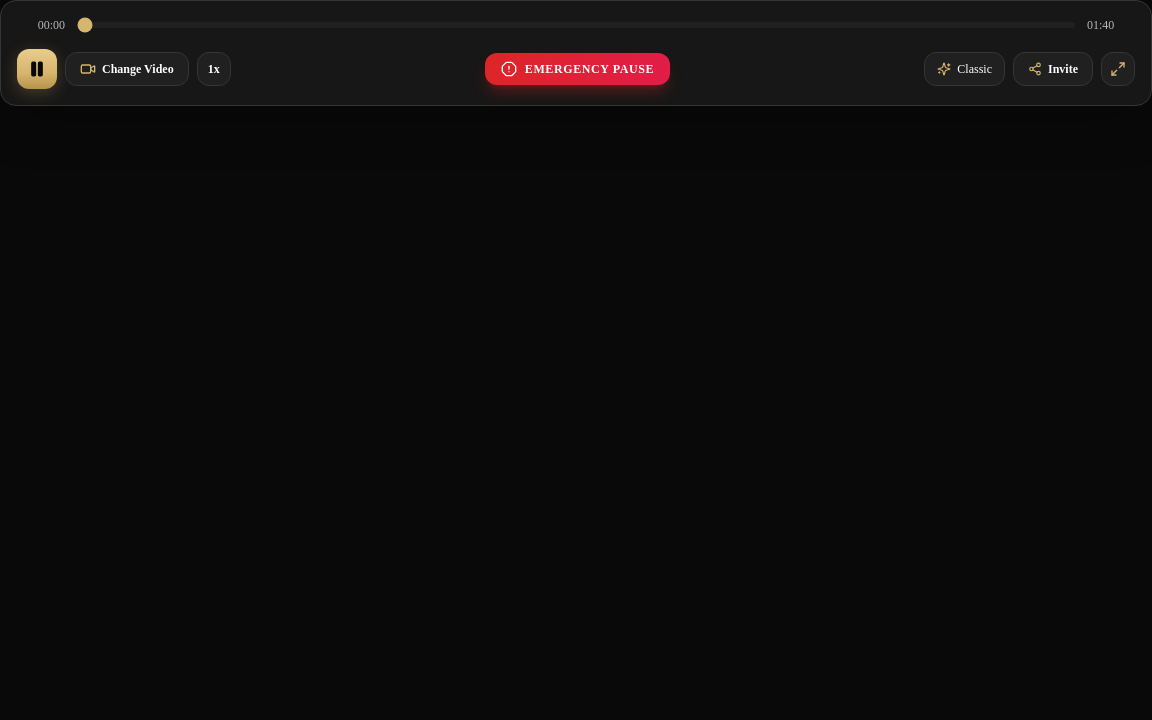
PlaybackControls Component › Invite Sharing & Clipboard Handling › handles clipboard writeText permission rejection without crashing and displays manual copy option
Step 1. Click the button with test id "invite-btn" → (1053, 69), box [1013,52,1093,86]
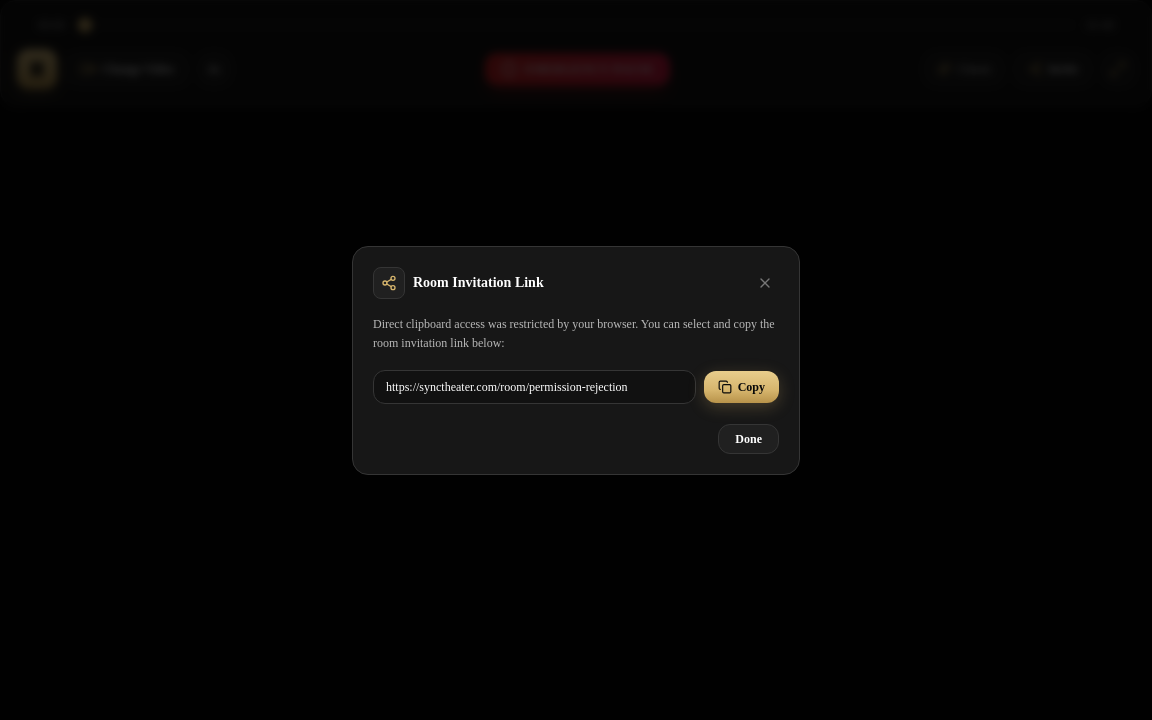
Expected: the dialog is shown
Expected: the field with test id "manual-invite-input" holds "https://synctheater.com/room/permission-rejection", [373,370,696,404]
